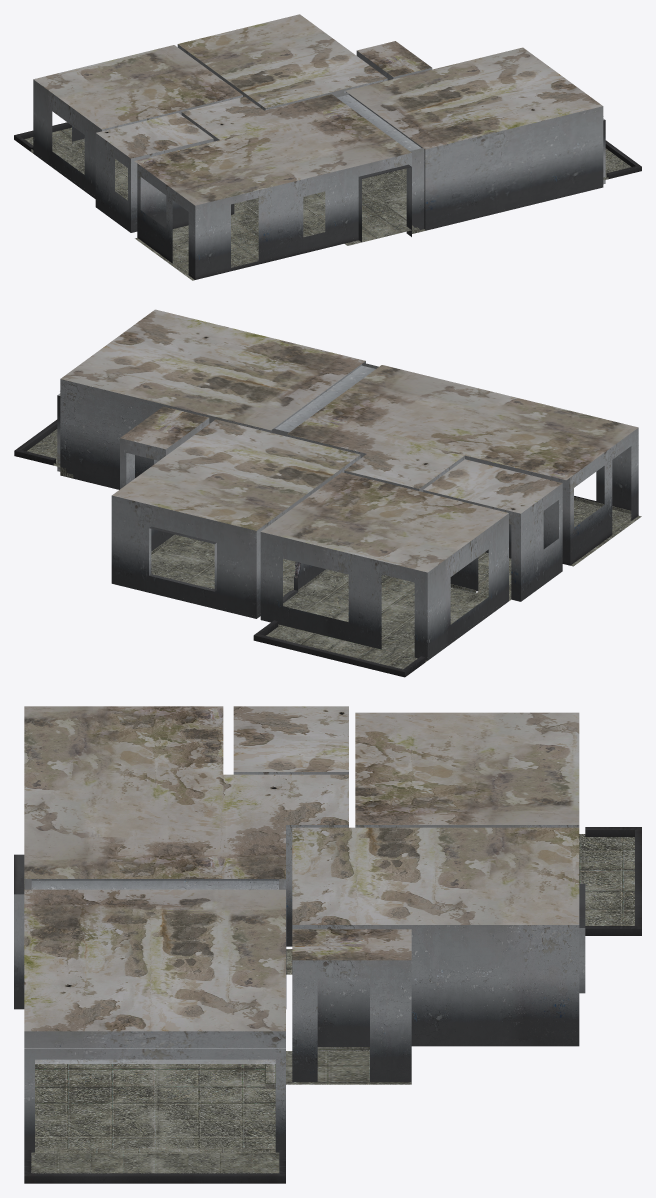
File: A1_H1_WFC.FBX
3 renders of one model, top to bottom at view 1: azimuth 30°, elevation 25°; view 2: azimuth 150°, elevation 25°; view 3: azimuth 270°, elevation 25°, orthographic. The views are drawn at different scales.
Parts seen in each view (by area): view 1: A1_H1_Ceiling, A1_H1_LR_Walls, A1_H1_LR_Floor, A1_H1_R3_Walls, A1_H1_T1_Walls, A1_H1_R3_Floor, A1_H1_R2_Walls; view 2: A1_H1_Ceiling, A1_H1_R3_Walls, A1_H1_LR_Walls, A1_H1_R2_Walls, A1_H1_R3_Floor, A1_H1_T1_Walls, A1_H1_R2_Floor, A1_H1_LR_Floor, A1_H1_P1_Walls, A1_H1_T1_Floor; view 3: A1_H1_Ceiling, A1_H1_LR_Floor, A1_H1_R2_Walls, A1_H1_LR_Walls, A1_H1_P1_Walls, A1_H1_R3_Floor, A1_H1_P1_Floor, A1_H1_R3_Walls.
Part boxes in pixels (bbox=[...]): A1_H1_Ceiling: bbox=[33, 14, 602, 205]; A1_H1_LR_Walls: bbox=[137, 91, 641, 279]; A1_H1_LR_Floor: bbox=[135, 148, 631, 280]; A1_H1_R3_Walls: bbox=[14, 79, 242, 198]; A1_H1_T1_Walls: bbox=[95, 133, 213, 232]; A1_H1_R3_Floor: bbox=[24, 127, 127, 199]; A1_H1_R2_Walls: bbox=[177, 44, 387, 110]; A1_H1_Ceiling: bbox=[60, 309, 638, 572]; A1_H1_R3_Walls: bbox=[253, 513, 508, 677]; A1_H1_LR_Walls: bbox=[14, 361, 638, 565]; A1_H1_R2_Walls: bbox=[111, 455, 360, 618]; A1_H1_R3_Floor: bbox=[266, 569, 510, 669]; A1_H1_T1_Walls: bbox=[423, 483, 562, 601]; A1_H1_R2_Floor: bbox=[151, 534, 295, 596]; A1_H1_LR_Floor: bbox=[27, 429, 641, 566]; A1_H1_P1_Walls: bbox=[120, 418, 209, 488]; A1_H1_T1_Floor: bbox=[478, 552, 511, 599]; A1_H1_Ceiling: bbox=[24, 706, 579, 1031]; A1_H1_LR_Floor: bbox=[24, 879, 279, 1173]; A1_H1_R2_Walls: bbox=[292, 883, 585, 1046]; A1_H1_LR_Walls: bbox=[14, 825, 348, 1183]; A1_H1_P1_Walls: bbox=[292, 960, 411, 1081]; A1_H1_R3_Floor: bbox=[579, 834, 634, 925]; A1_H1_P1_Floor: bbox=[286, 1047, 411, 1084]; A1_H1_R3_Walls: bbox=[355, 825, 641, 935].
Size of the model in its own units: 2024 by 351 by 1500.
4 materials, 4 textured.
